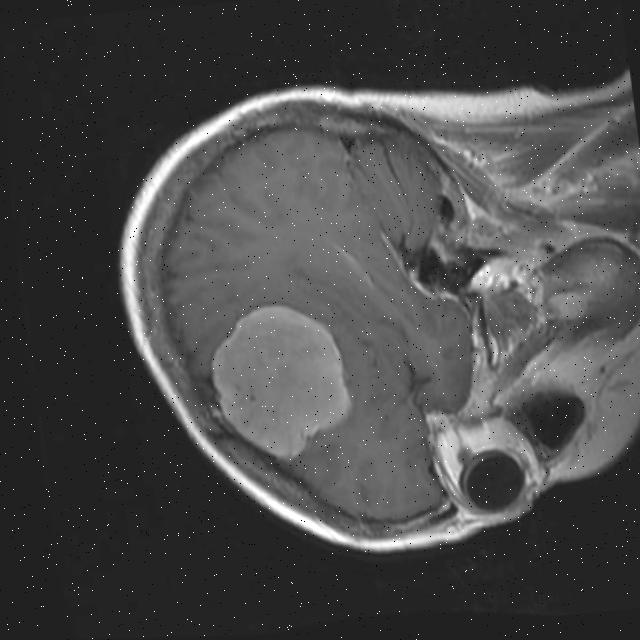Meningioma: (201, 297, 360, 465)
